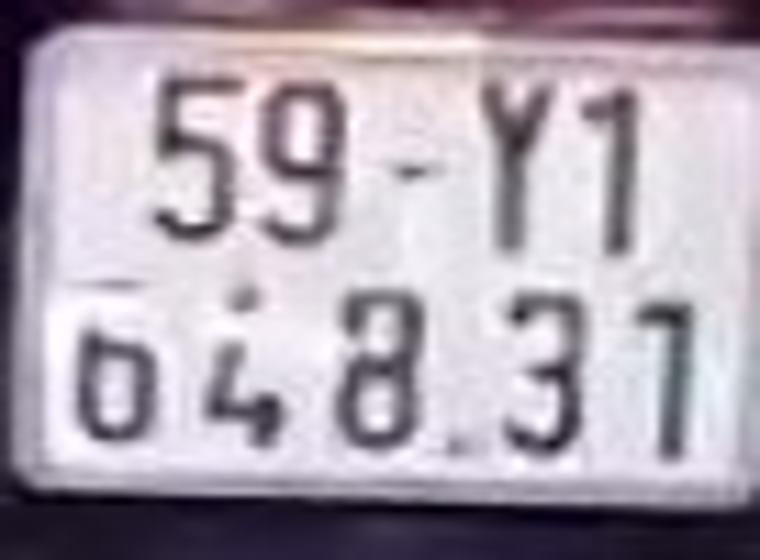-: (391, 157, 444, 187)
.: (439, 427, 479, 464)
1: (574, 75, 661, 266), (624, 280, 709, 471)
3: (495, 281, 590, 462)
4: (197, 277, 302, 459)
5: (149, 66, 252, 248)
6: (67, 271, 171, 456)
8: (330, 272, 436, 462)
9: (257, 67, 351, 248)
Y: (456, 71, 563, 258)
